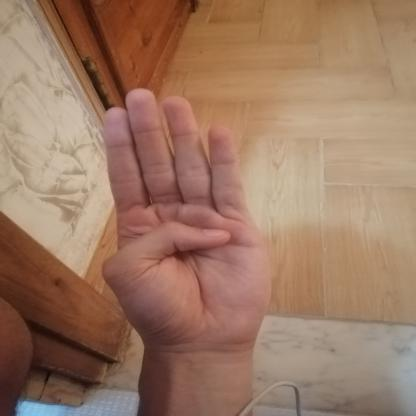KAAF: (76, 79, 298, 363)
